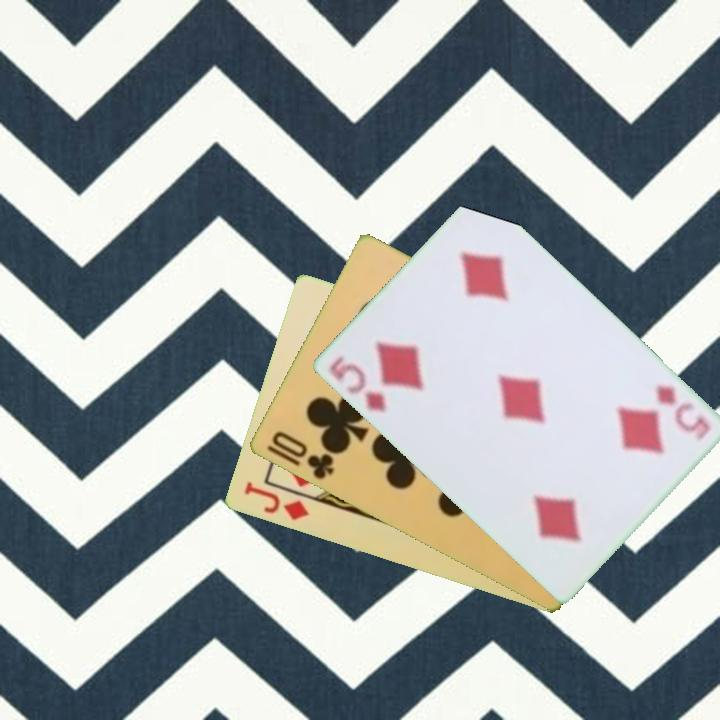10c: (262, 427, 337, 483)
5d: (325, 352, 388, 416), (651, 381, 713, 445)
Jd: (240, 478, 312, 524)
